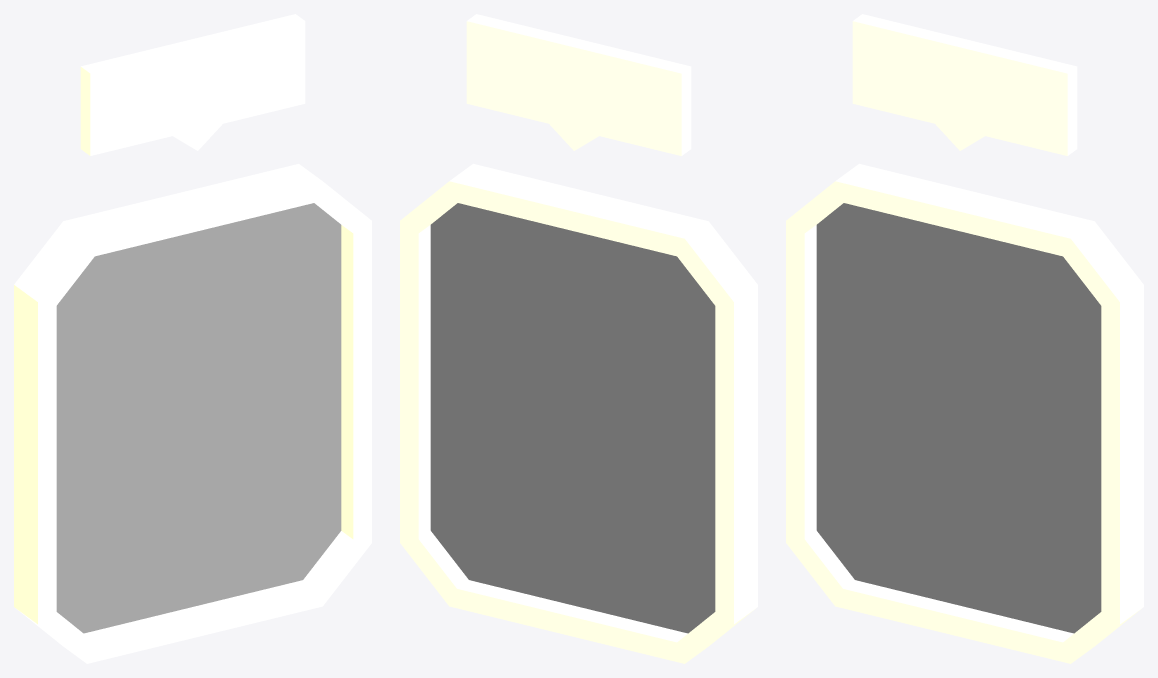
Rendered from portal_frame.glb.
The picture shows the model from 3 angles, left to right: view 1: azimuth 30°, elevation 25°; view 2: azimuth 150°, elevation 25°; view 3: azimuth 330°, elevation 25°; orthographic projection.
Parts seen in each view (by area): view 1: portal.nextscenepreview, portal, portal.001; view 2: portal.nextscenepreview, portal, portal.001; view 3: portal.nextscenepreview, portal, portal.001.
Boxes of the visible parts, left/top/right/bottom form: portal.nextscenepreview: left=56, top=203, right=341, bottom=633; portal: left=14, top=164, right=371, bottom=663; portal.001: left=80, top=14, right=305, bottom=155; portal.nextscenepreview: left=430, top=203, right=715, bottom=633; portal: left=400, top=163, right=757, bottom=663; portal.001: left=466, top=14, right=691, bottom=155; portal.nextscenepreview: left=816, top=203, right=1101, bottom=633; portal: left=786, top=163, right=1143, bottom=663; portal.001: left=852, top=14, right=1077, bottom=155.
Bounding box in the file's own units: 2.67 × 4.45 × 0.3323.
